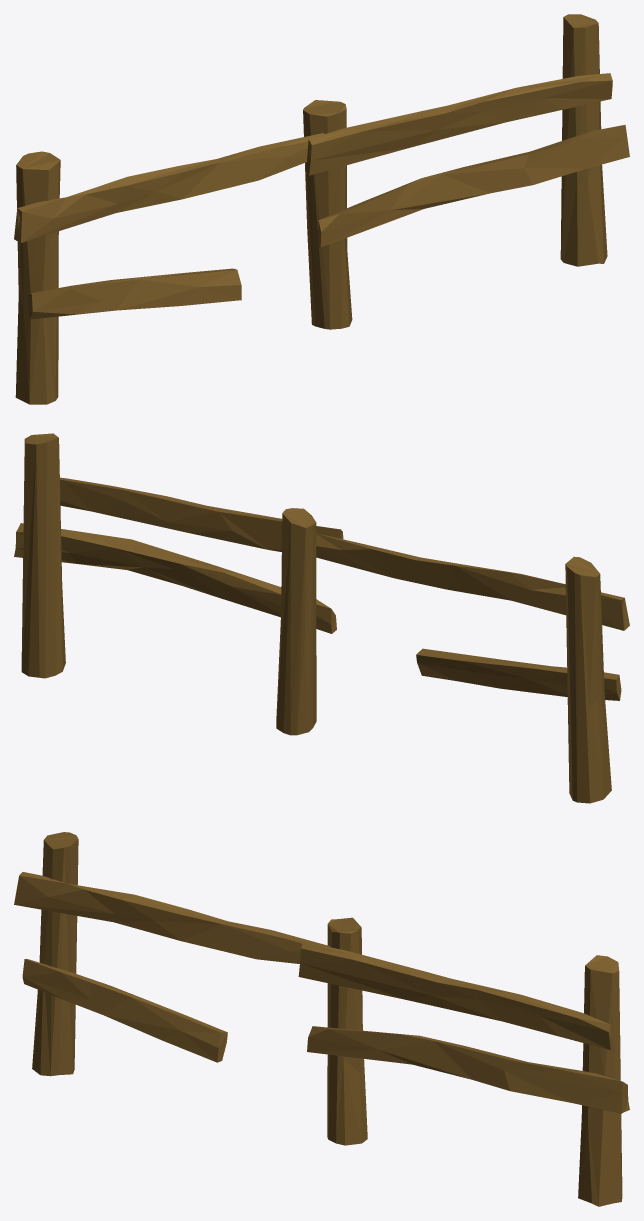
File: Prototype Fence 01.FBX
The picture shows the model from 3 angles, top to bottom: view 1: azimuth 30°, elevation 25°; view 2: azimuth 150°, elevation 25°; view 3: azimuth 330°, elevation 25°; orthographic projection. The views are drawn at different scales.
Visible parts, largest first — view 1: Prototype Fence 01; view 2: Prototype Fence 01; view 3: Prototype Fence 01.
Part boxes in pixels (x1,y1,x2,y2): Prototype Fence 01: (14,14,629,404); Prototype Fence 01: (14,433,629,803); Prototype Fence 01: (14,832,629,1206).
Size of the model in its own units: 196 by 19.96 by 72.99.
